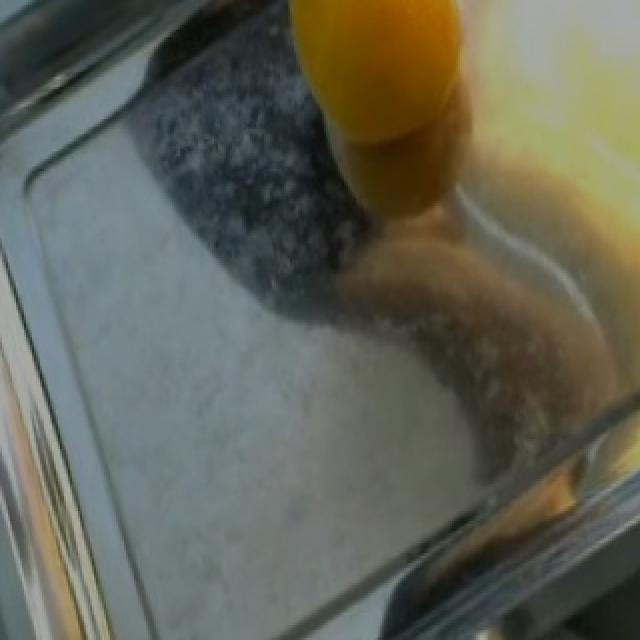Fruit: (262, 3, 504, 166)
